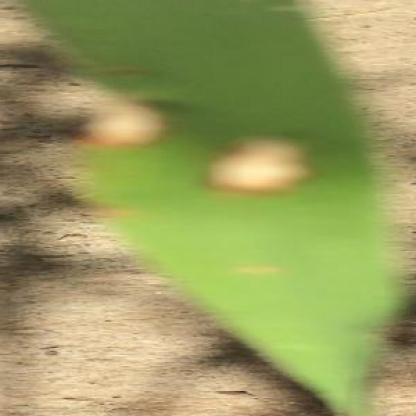Rice blast: (202, 131, 323, 194), (79, 108, 172, 147)
